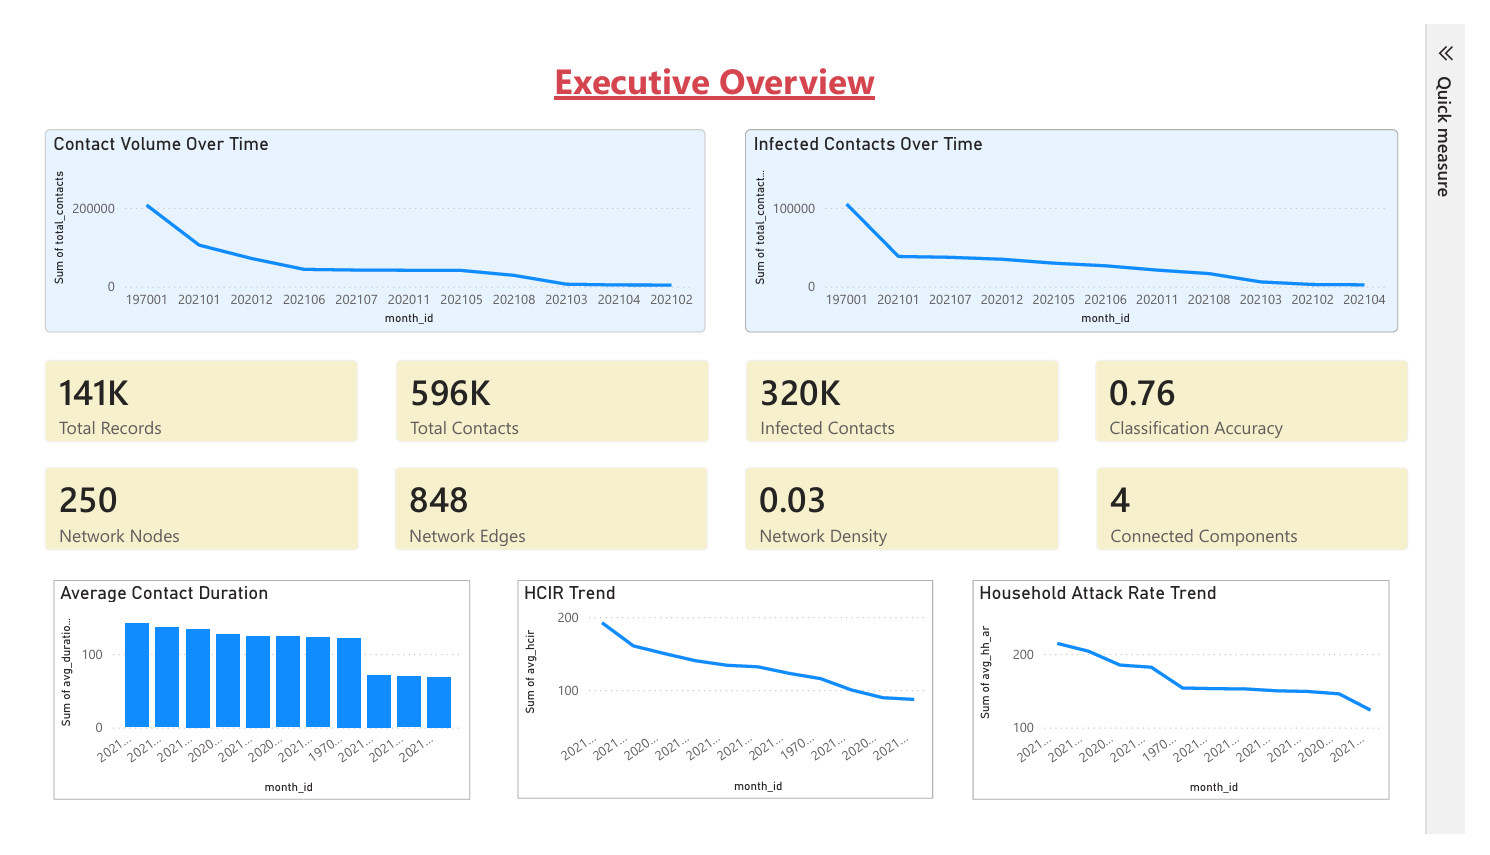

This screenshot's page, from the dashboard's own definition file:
{"tool":"powerbi","page":{"name":"Executive Overview","canvas":[1280,720],"ordinal":0},"visuals":[{"type":"cardVisual","fields":{"Data":["Sum(overview_kpis.total_records)"]},"box":[1.3,278.7,319.7,109.3],"z":0},{"type":"cardVisual","fields":{"Data":["Sum(overview_kpis.total_contacts)"]},"box":[322,279,320,109],"z":1000},{"type":"cardVisual","fields":{"Data":["Sum(overview_kpis.total_infected_contacts)"]},"box":[641.6,278.7,320.6,109.3],"z":2000},{"type":"cardVisual","fields":{"Data":["Sum(overview_kpis.classification_accuracy)"]},"box":[961.3,278.7,319.7,109.3],"z":3000},{"type":"cardVisual","fields":{"Data":["Sum(overview_kpis.network_nodes)"]},"box":[1.2,377.4,320.6,109.3],"z":4000},{"type":"cardVisual","fields":{"Data":["Sum(overview_kpis.network_edges)"]},"box":[320.9,377.4,320.6,109.3],"z":5000},{"type":"cardVisual","fields":{"Data":["Sum(overview_kpis.network_density)"]},"box":[641.5,377.4,320.6,109.3],"z":6000},{"type":"cardVisual","fields":{"Data":["Sum(overview_kpis.network_components)"]},"box":[962.1,377.4,318.8,109.3],"z":7000},{"type":"clusteredColumnChart","title":"Average Contact Duration","fields":{"Category":["exposure_summary.month_id"],"Y":["Sum(exposure_summary.avg_duration_sec)"]},"box":[26,497,380.6,200.6],"z":8000},{"type":"lineChart","title":"HCIR Trend","fields":{"Category":["exposure_summary.month_id"],"Y":["Sum(exposure_summary.avg_hcir)"]},"box":[449.6,496.9,380.6,200.6],"z":9000},{"type":"lineChart","title":"Household Attack Rate Trend","fields":{"Category":["exposure_summary.month_id"],"Y":["Sum(exposure_summary.avg_hh_ar)"]},"box":[866,497,380.6,200.6],"z":10000},{"type":"textbox","box":[450,13,360,60],"z":11000},{"type":"lineChart","title":"Contact Volume Over Time","fields":{"Category":["exposure_summary.month_id"],"Y":["Sum(exposure_summary.total_contacts)"]},"box":[17.7,85,604.5,186.3],"z":12000},{"type":"lineChart","title":"Infected Contacts Over Time","fields":{"Category":["exposure_summary.month_id"],"Y":["Sum(exposure_summary.total_contacts_infected)"]},"box":[658,85,597.3,186.3],"z":13000}]}

Visuals, with their boxes on the page's 1280x720 design canvas (x1, y1, x2, y2). These are canvas units, not pixel positions in the 1490x855 screenshot, which may show the page scaled, cropped or inside an application window:
cardVisual - Sum(overview_kpis.total_records): <bbox>1, 279, 321, 388</bbox>
cardVisual - Sum(overview_kpis.total_contacts): <bbox>322, 279, 642, 388</bbox>
cardVisual - Sum(overview_kpis.total_infected_contacts): <bbox>642, 279, 962, 388</bbox>
cardVisual - Sum(overview_kpis.classification_accuracy): <bbox>961, 279, 1281, 388</bbox>
cardVisual - Sum(overview_kpis.network_nodes): <bbox>1, 377, 322, 487</bbox>
cardVisual - Sum(overview_kpis.network_edges): <bbox>321, 377, 642, 487</bbox>
cardVisual - Sum(overview_kpis.network_density): <bbox>642, 377, 962, 487</bbox>
cardVisual - Sum(overview_kpis.network_components): <bbox>962, 377, 1281, 487</bbox>
"Average Contact Duration" clusteredColumnChart: <bbox>26, 497, 407, 698</bbox>
"HCIR Trend" lineChart: <bbox>450, 497, 830, 698</bbox>
"Household Attack Rate Trend" lineChart: <bbox>866, 497, 1247, 698</bbox>
textbox: <bbox>450, 13, 810, 73</bbox>
"Contact Volume Over Time" lineChart: <bbox>18, 85, 622, 271</bbox>
"Infected Contacts Over Time" lineChart: <bbox>658, 85, 1255, 271</bbox>
